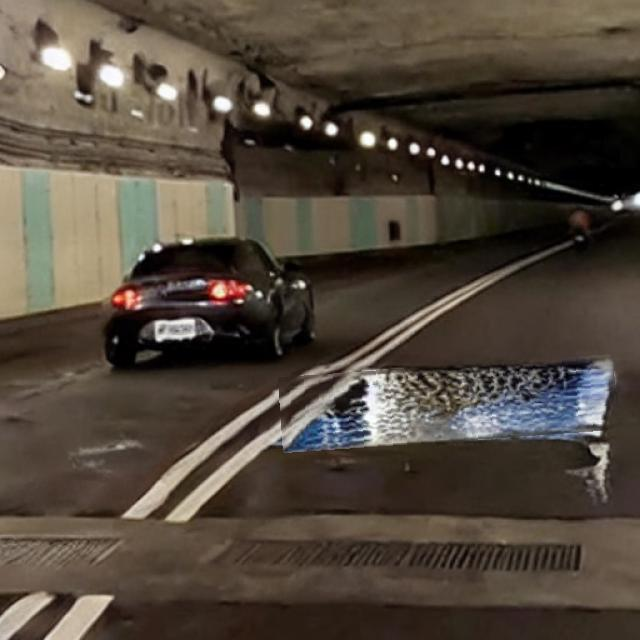puddle: (280, 361, 618, 449)
